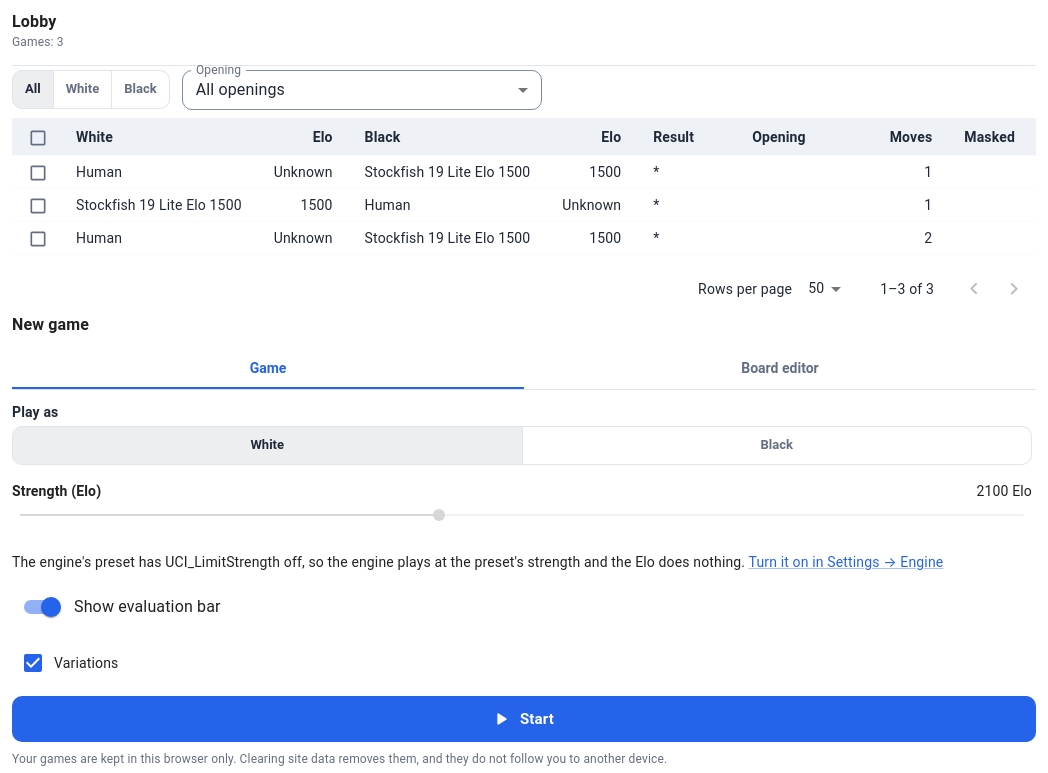
Scenario: Lobby — filters (CTA-82) › narrows the list to the side the reader played, and says how many of how many
Click the button with test id "played-games-filter-color-black".
click(140, 90)  # box 111,70 -> 170,109
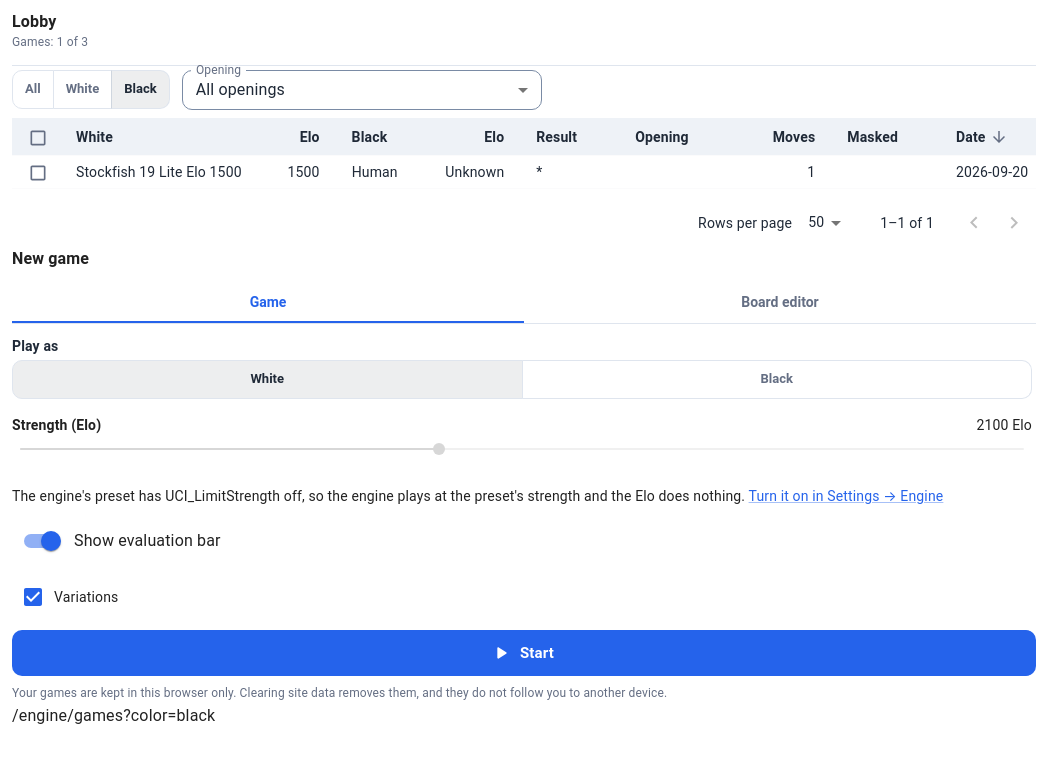
Check: the text with test id "played-games-count" reads "Games: 1 of 3", box 12,35 -> 88,49
Check: the text with test id "where" reads "/engine/games?color=black", box 12,706 -> 215,725
Click the button with test id "played-games-filter-color-all".
click(33, 90)  # box 12,70 -> 54,109
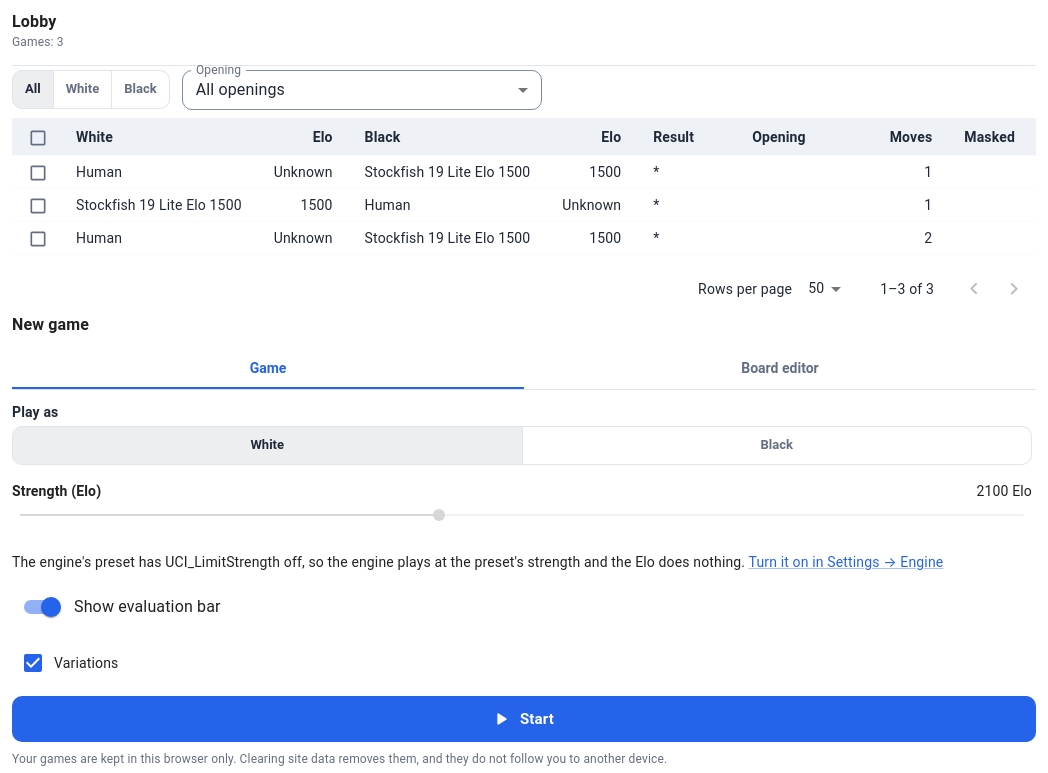
Check: the text with test id "played-games-count" reads "Games: 3", box 12,35 -> 64,49
